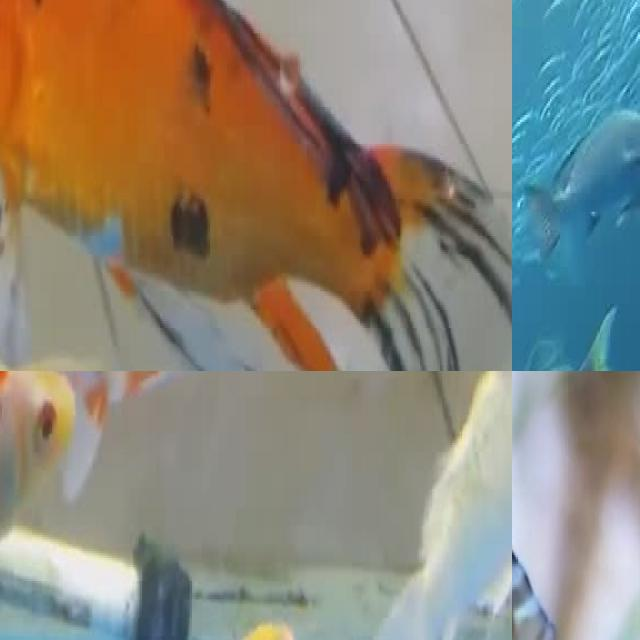fish: (0, 0, 512, 371), (0, 371, 80, 640), (512, 296, 628, 371)
